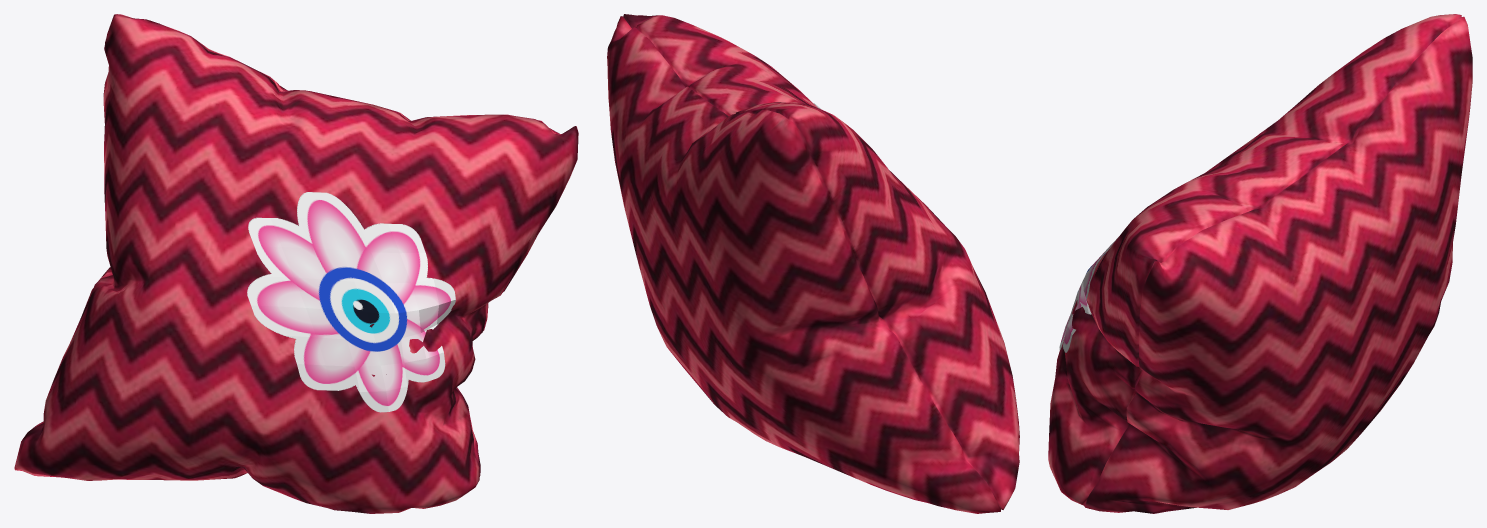
File: nyb_loft_pillow.glb
3 views of the same model, side by side, from view 1: azimuth 30°, elevation 25°; view 2: azimuth 150°, elevation 25°; view 3: azimuth 270°, elevation 25° (orthographic). The views are drawn at different scales.
Parts seen in each view (by area): view 1: throw_pillows_01_pillow02, stk_eyeflower_die.png; view 2: throw_pillows_01_pillow02; view 3: throw_pillows_01_pillow02, stk_eyeflower_die.png.
Boxes of the visible parts, <box> form: throw_pillows_01_pillow02: <box>14,14,578,513</box>; stk_eyeflower_die.png: <box>247,192,455,412</box>; throw_pillows_01_pillow02: <box>607,14,1019,513</box>; throw_pillows_01_pillow02: <box>1048,14,1472,513</box>; stk_eyeflower_die.png: <box>1059,237,1118,352</box>.
Bounding box in the file's own units: 0.572 × 0.4502 × 0.4267.
2 materials, 2 textured.
